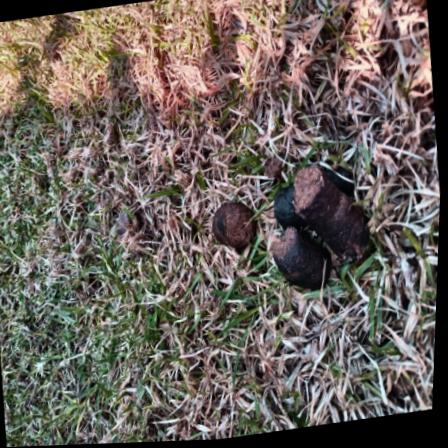dog-poop: (198, 149, 375, 306)
